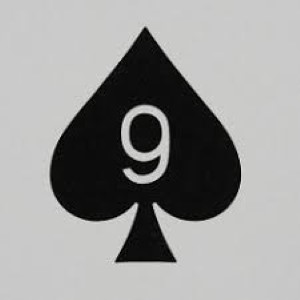NineOfSpades: (44, 19, 245, 266)
